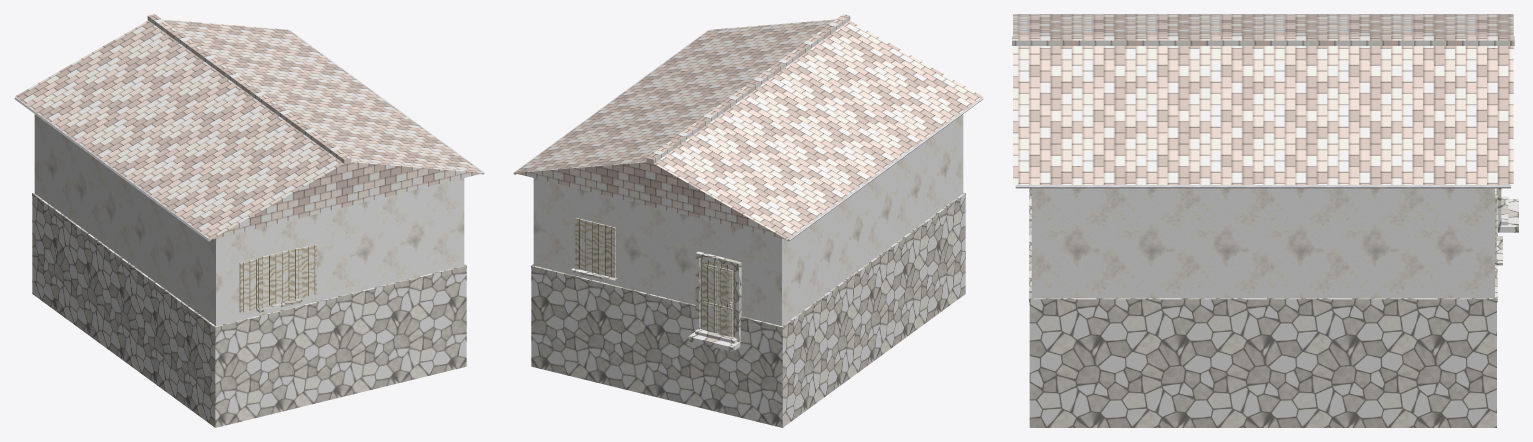
The picture shows the model from 3 angles, left to right: view 1: azimuth 30°, elevation 25°; view 2: azimuth 150°, elevation 25°; view 3: azimuth 270°, elevation 25°; orthographic projection. The views are drawn at different scales.
Parts seen in each view (by area): view 1: b1084716799; view 2: b1084716799; view 3: b1084716799.
Part boxes in pixels (<box>): b1084716799: <box>14,14,484,427</box>; b1084716799: <box>513,14,983,427</box>; b1084716799: <box>1012,14,1518,427</box>.
Bounding box in the file's own units: 7.66 × 6.45 × 9.52.
15 materials, 15 textured.
